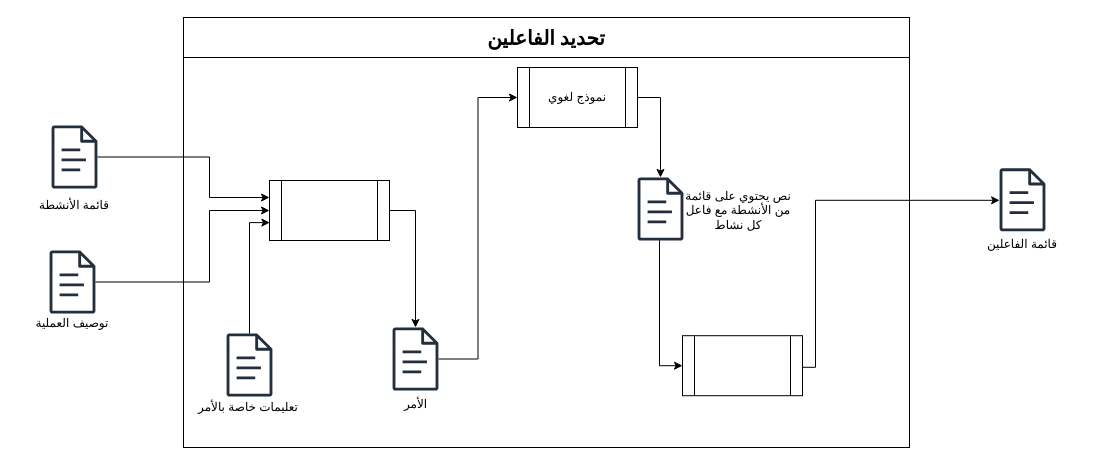
Image size: 1094x465. Some labels were removed from this diagram. The centre of each missing label's shape, as x and y in pixels:
باني الأمر: (329,210)
محلل: (742,365)
